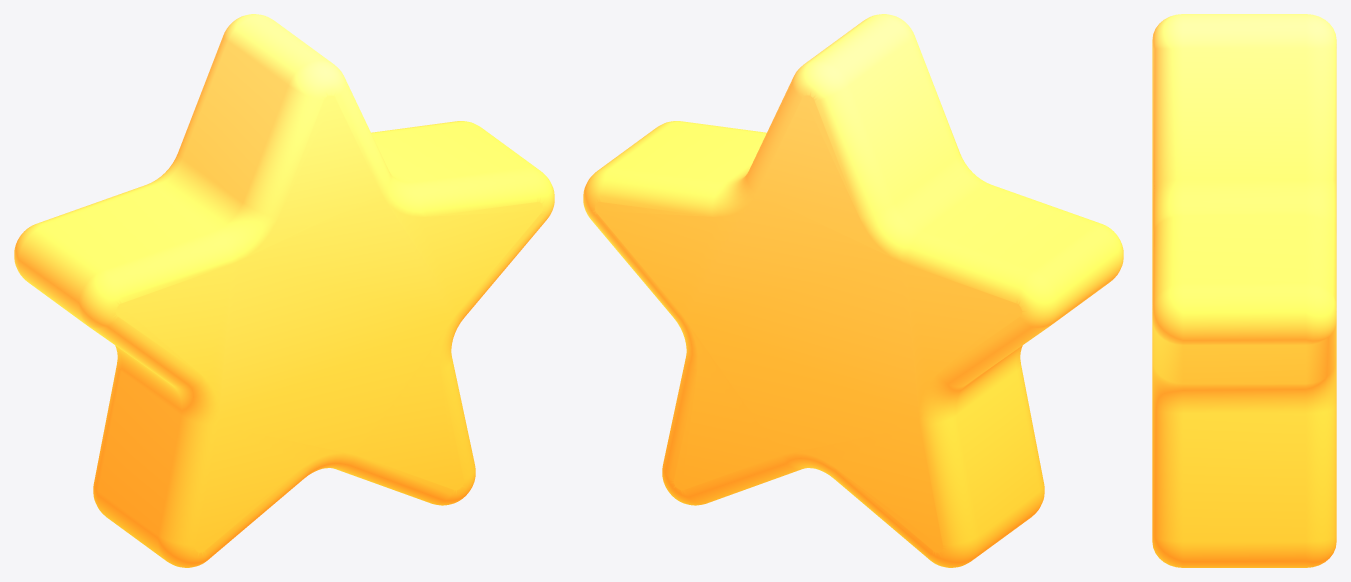
Rendered from star.glb.
3 renders of one model, left to right at view 1: azimuth 30°, elevation 25°; view 2: azimuth 150°, elevation 25°; view 3: azimuth 270°, elevation 25°, orthographic. The views are drawn at different scales.
Visible parts, largest first — view 1: star; view 2: star; view 3: star.
Boxes of the visible parts, bbox=[...] form: star: bbox=[14, 14, 554, 567]; star: bbox=[583, 14, 1123, 567]; star: bbox=[1152, 14, 1336, 567].
Size of the model in its own units: 0.085 by 0.0814 by 0.0281.
